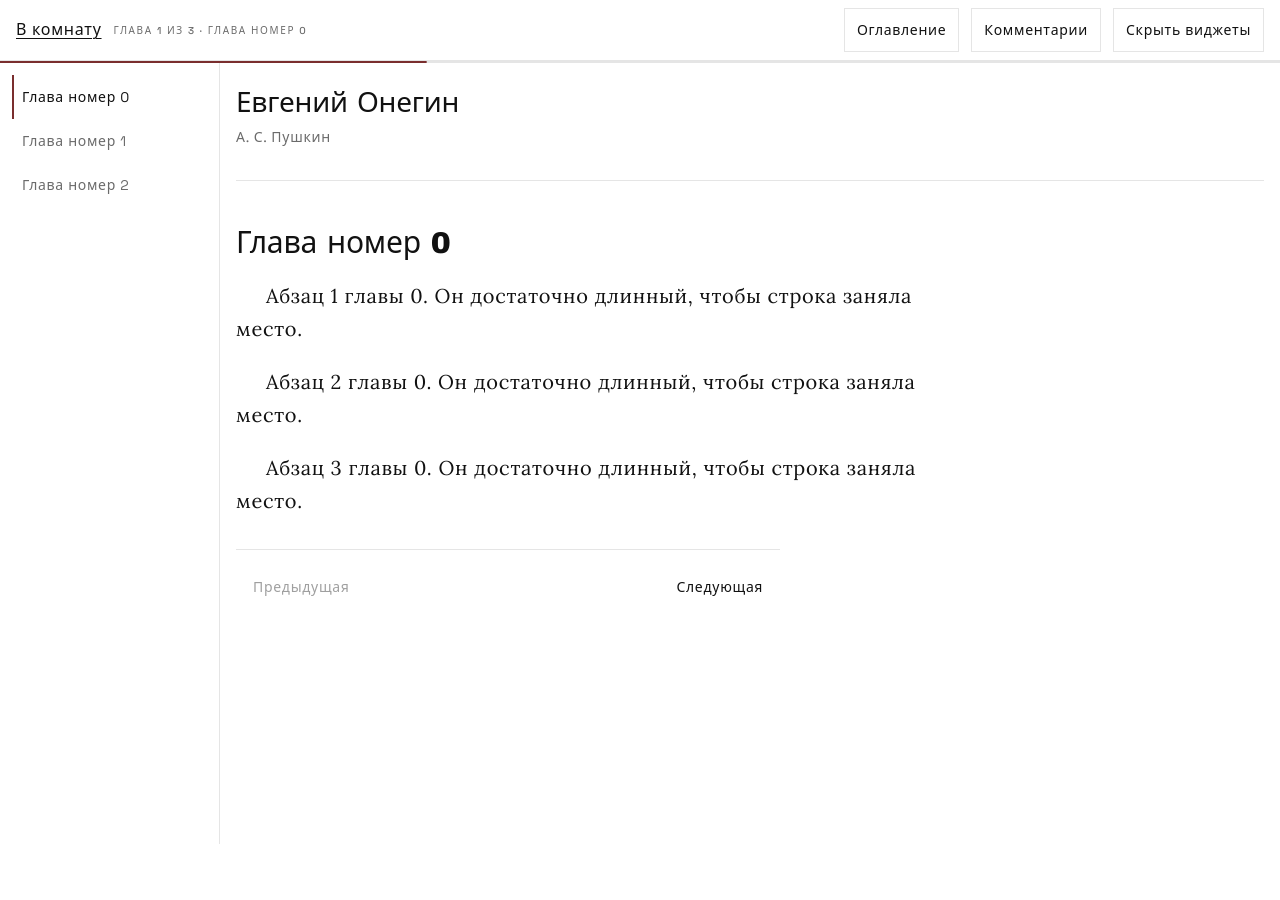
it: навигация › оглавление перечисляет главы и текущая помечена
Expected: the element with class "chapter" is shown, [236,226,916,517]
Expected: the heading "Глава номер 0" is shown, [236,227,451,259]
Click the button "Глава номер 2" at (110, 185), box [12,163,207,207]
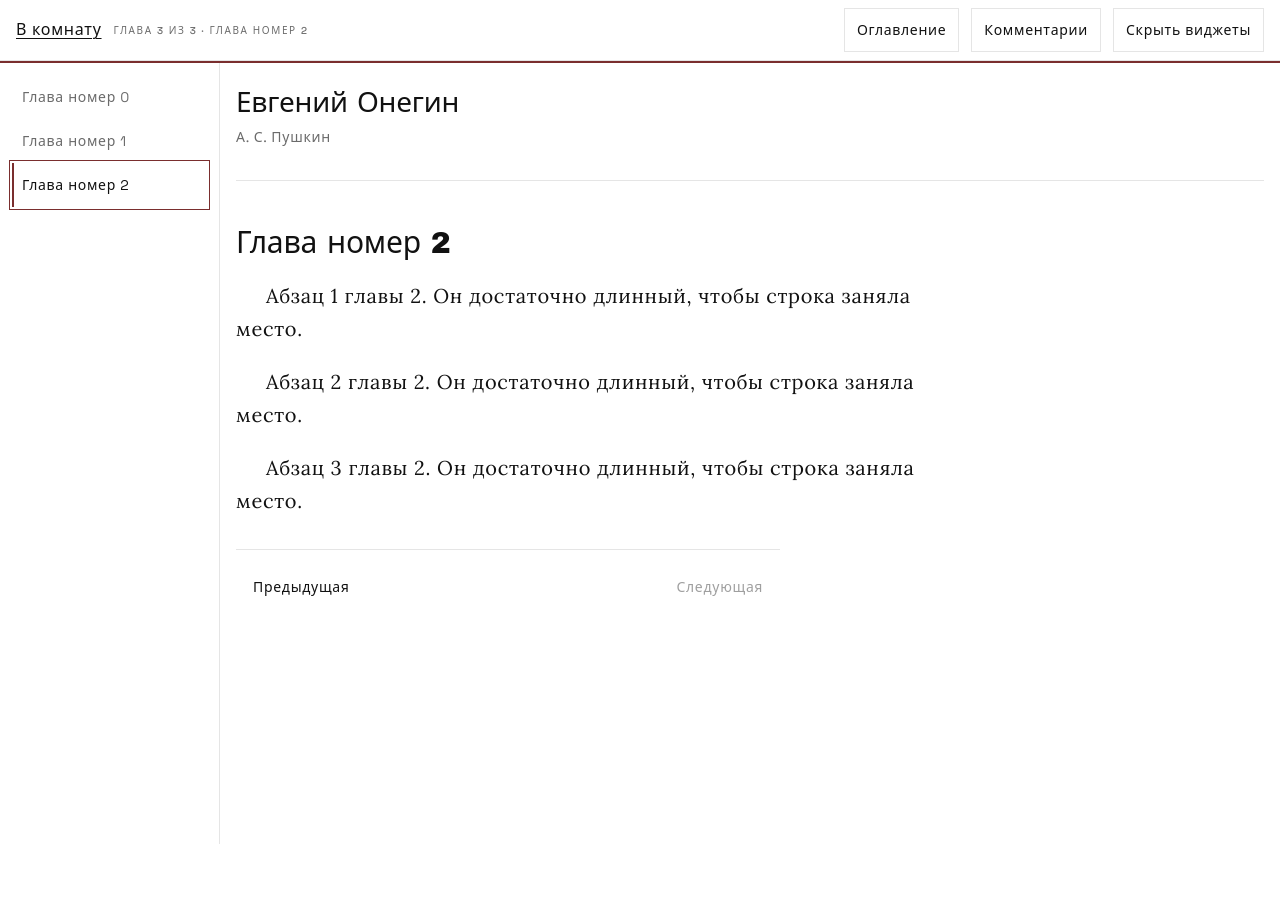
Expected: the element with class "chapter" is shown, [236,226,916,517]
Expected: the heading "Глава номер 2" is shown, [236,227,451,259]
